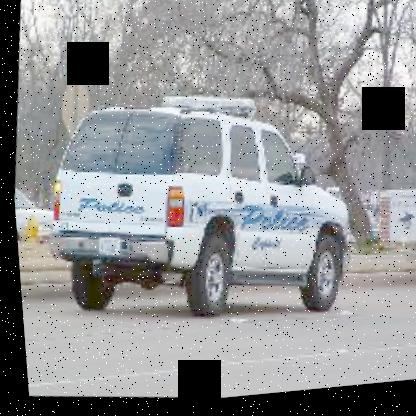emergency: (22, 64, 366, 350)
